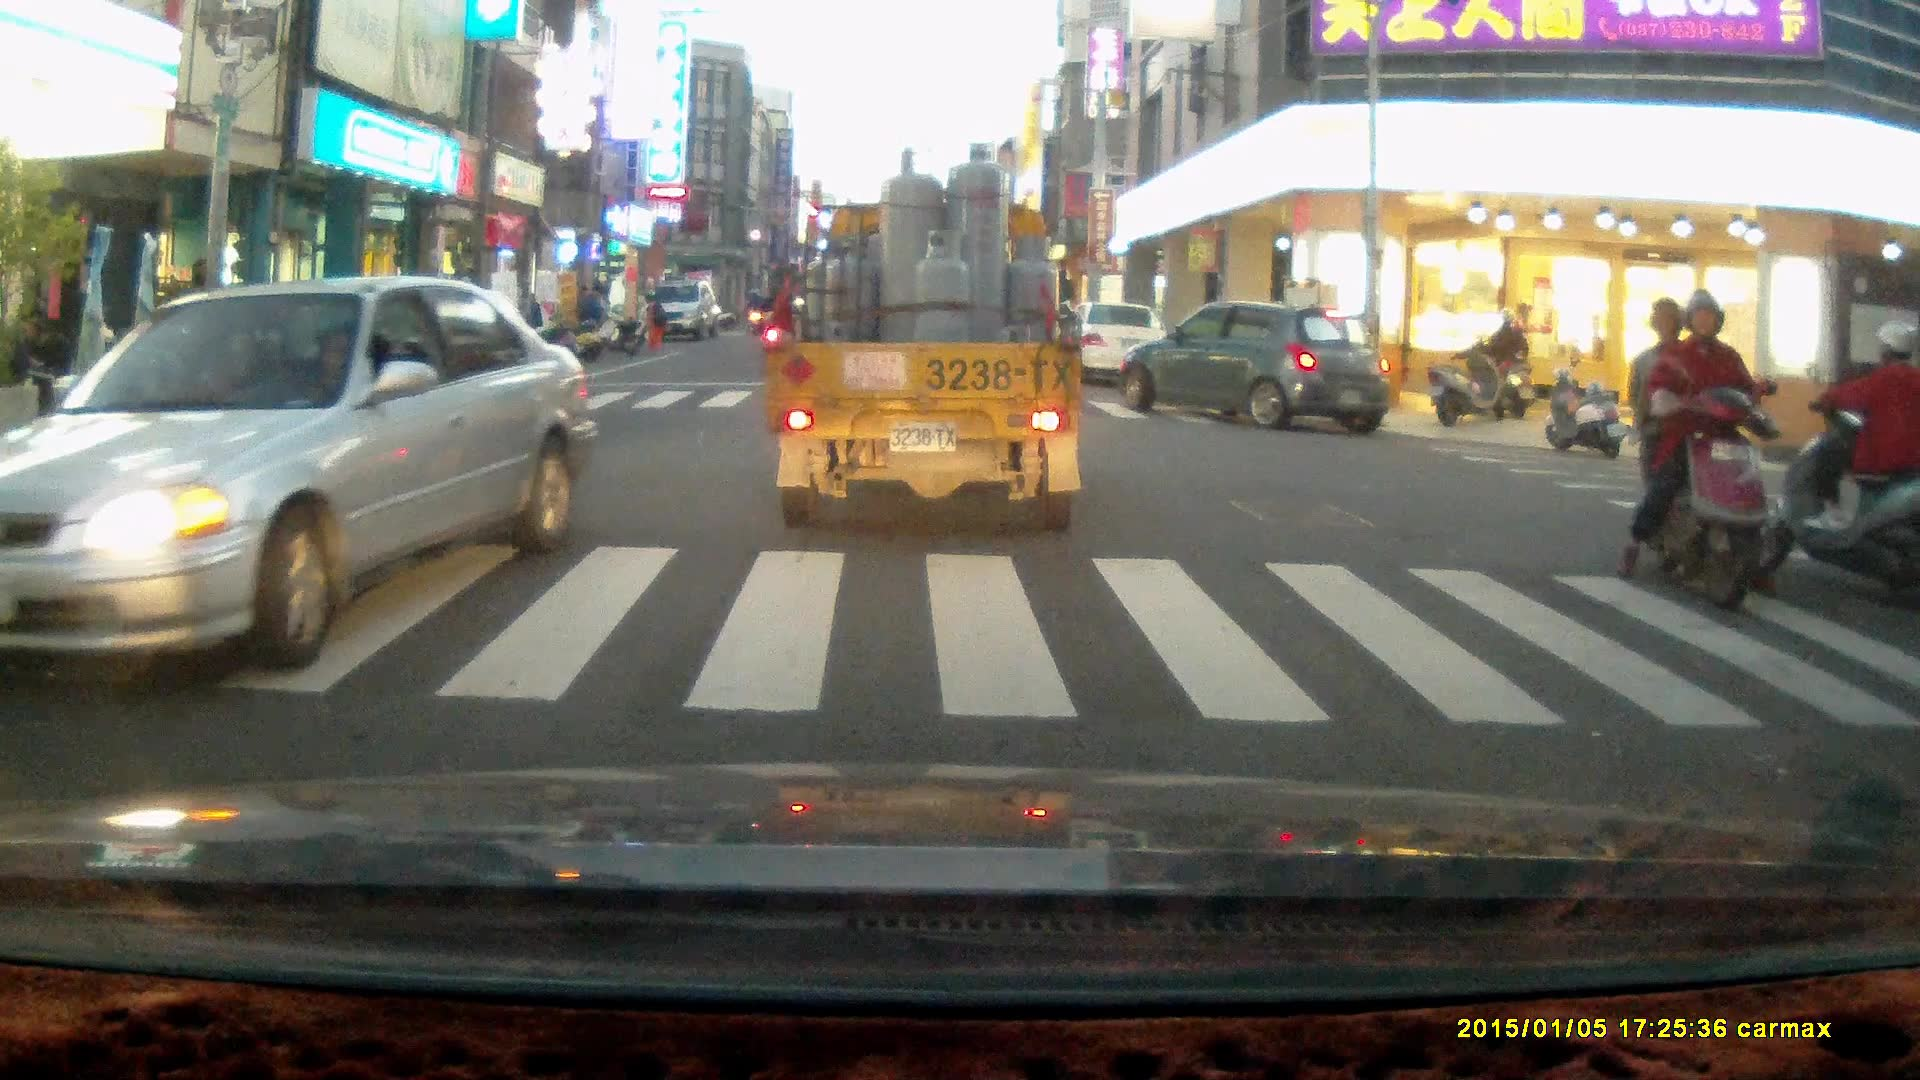pedestrian: (576, 283, 604, 348), (638, 292, 665, 352)
rider: (1610, 291, 1778, 616), (1756, 317, 1920, 609), (1475, 306, 1538, 423)
vehicle: (1, 277, 600, 674), (768, 141, 1086, 537), (1121, 302, 1394, 434), (1058, 303, 1180, 388), (637, 279, 716, 342)
